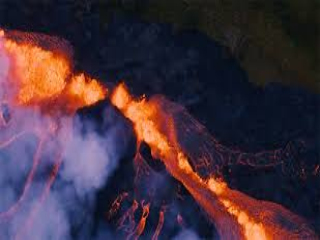fire: (117, 85, 258, 224), (8, 35, 113, 111)
smoke: (22, 115, 114, 220)
